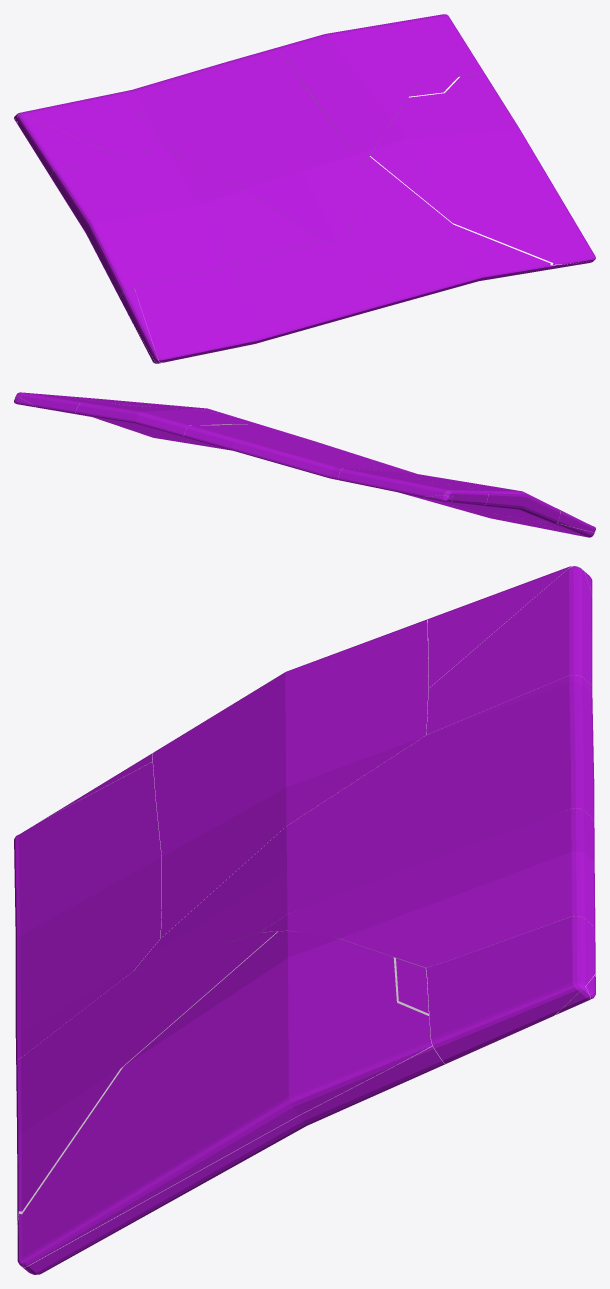
Rendered from Structure_Tower_Knight_Human_02_Destroyed_debris_cells_external_structure_rooftop.fbx.
3 renders of one model, top to bottom at view 1: azimuth 30°, elevation 25°; view 2: azimuth 150°, elevation 25°; view 3: azimuth 270°, elevation 25°, orthographic. The views are drawn at different scales.
Visible parts, largest first — view 1: Structure_Tower_Knight_Human_02.005_cell.011, Structure_Tower_Knight_Human_02.005_cell.002, Structure_Tower_Knight_Human_02.005_cell.010, Structure_Tower_Knight_Human_02.005_cell.009, Structure_Tower_Knight_Human_02.005_cell.012, Structure_Tower_Knight_Human_02.005_cell.007, Structure_Tower_Knight_Human_02.005_cell.003, Structure_Tower_Knight_Human_02.005_cell.014, Structure_Tower_Knight_Human_02.005_cell.006, Structure_Tower_Knight_Human_02.005_cell.008; view 2: Structure_Tower_Knight_Human_02.005_cell.011, Structure_Tower_Knight_Human_02.005_cell.007, Structure_Tower_Knight_Human_02.005_cell.002, Structure_Tower_Knight_Human_02.005_cell.003, Structure_Tower_Knight_Human_02.005_cell.014, Structure_Tower_Knight_Human_02.005_cell.012, Structure_Tower_Knight_Human_02.005_cell.006, Structure_Tower_Knight_Human_02.005_cell.009, Structure_Tower_Knight_Human_02.005_cell.010, Structure_Tower_Knight_Human_02.005_cell.008, Structure_Tower_Knight_Human_02.005_cell.005; view 3: Structure_Tower_Knight_Human_02.005_cell.010, Structure_Tower_Knight_Human_02.005_cell.011, Structure_Tower_Knight_Human_02.005_cell.002, Structure_Tower_Knight_Human_02.005_cell.009, Structure_Tower_Knight_Human_02.005_cell.012, Structure_Tower_Knight_Human_02.005_cell.007, Structure_Tower_Knight_Human_02.005_cell.014, Structure_Tower_Knight_Human_02.005_cell.003, Structure_Tower_Knight_Human_02.005_cell.006.
Boxes of the visible parts, box(x1,y1,x2,y2) form: Structure_Tower_Knight_Human_02.005_cell.011: box(124, 48, 361, 246); Structure_Tower_Knight_Human_02.005_cell.002: box(51, 149, 321, 298); Structure_Tower_Knight_Human_02.005_cell.010: box(370, 72, 595, 264); Structure_Tower_Knight_Human_02.005_cell.009: box(134, 239, 397, 362); Structure_Tower_Knight_Human_02.005_cell.012: box(347, 76, 593, 304); Structure_Tower_Knight_Human_02.005_cell.007: box(277, 24, 417, 169); Structure_Tower_Knight_Human_02.005_cell.003: box(19, 91, 164, 156); Structure_Tower_Knight_Human_02.005_cell.014: box(384, 14, 483, 84); Structure_Tower_Knight_Human_02.005_cell.006: box(17, 114, 120, 177); Structure_Tower_Knight_Human_02.005_cell.008: box(120, 288, 159, 362); Structure_Tower_Knight_Human_02.005_cell.011: box(184, 424, 377, 479); Structure_Tower_Knight_Human_02.005_cell.007: box(75, 402, 259, 436); Structure_Tower_Knight_Human_02.005_cell.002: box(370, 459, 560, 523); Structure_Tower_Knight_Human_02.005_cell.003: box(338, 468, 448, 497); Structure_Tower_Knight_Human_02.005_cell.014: box(16, 392, 120, 413); Structure_Tower_Knight_Human_02.005_cell.012: box(58, 400, 231, 450); Structure_Tower_Knight_Human_02.005_cell.006: box(423, 480, 488, 505); Structure_Tower_Knight_Human_02.005_cell.009: box(398, 492, 595, 534); Structure_Tower_Knight_Human_02.005_cell.010: box(61, 395, 237, 417); Structure_Tower_Knight_Human_02.005_cell.008: box(557, 509, 595, 532); Structure_Tower_Knight_Human_02.005_cell.005: box(531, 520, 594, 537); Structure_Tower_Knight_Human_02.005_cell.010: box(17, 931, 432, 1266); Structure_Tower_Knight_Human_02.005_cell.011: box(134, 675, 594, 970); Structure_Tower_Knight_Human_02.005_cell.002: box(152, 619, 428, 937); Structure_Tower_Knight_Human_02.005_cell.009: box(14, 762, 161, 1062); Structure_Tower_Knight_Human_02.005_cell.012: box(16, 931, 445, 1274); Structure_Tower_Knight_Human_02.005_cell.007: box(260, 808, 595, 967); Structure_Tower_Knight_Human_02.005_cell.014: box(426, 916, 595, 1063); Structure_Tower_Knight_Human_02.005_cell.003: box(426, 566, 592, 734); Structure_Tower_Knight_Human_02.005_cell.006: box(428, 566, 572, 688).
Size of the model in its own units: 537 by 182 by 315.
